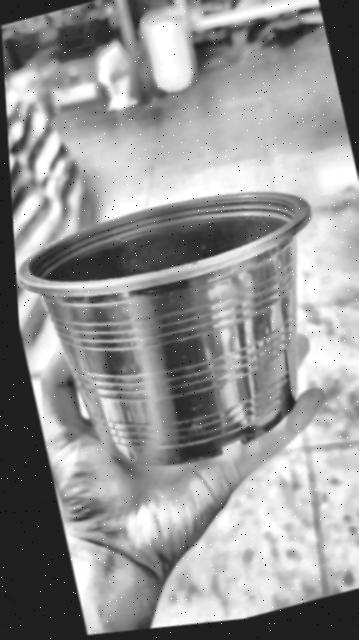pot: (17, 192, 309, 465)
